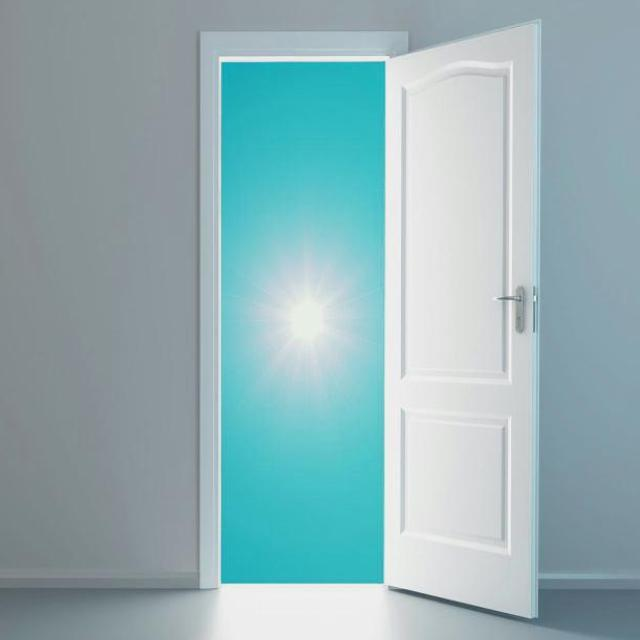Door: (383, 18, 540, 619)
